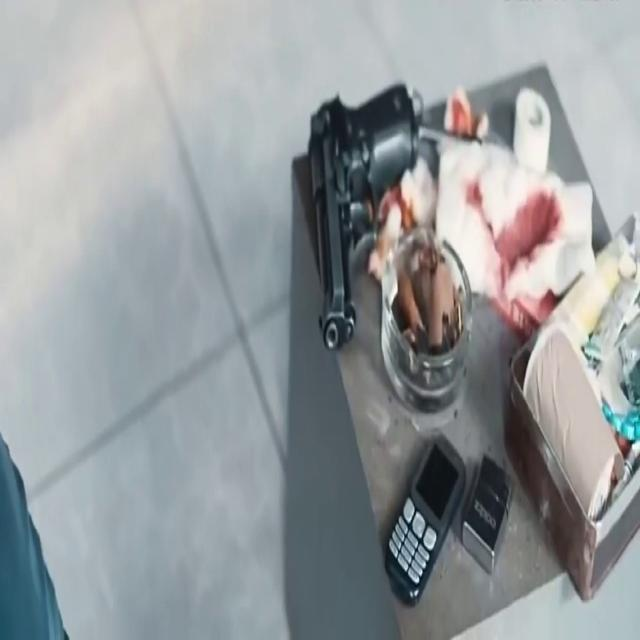smoking: (362, 197, 496, 409)
